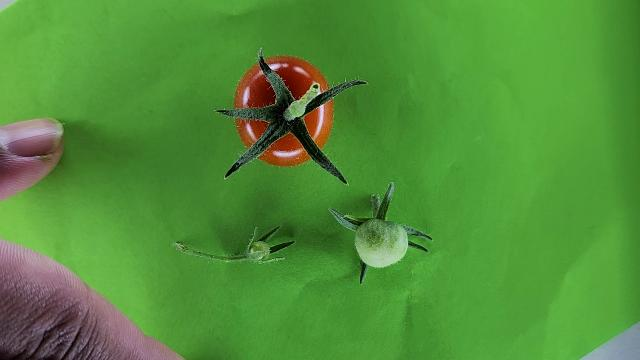Fruit Bud: (248, 241, 271, 261)
Fruit Maturation: (353, 217, 409, 269)
Fully Grown: (233, 54, 334, 165)
